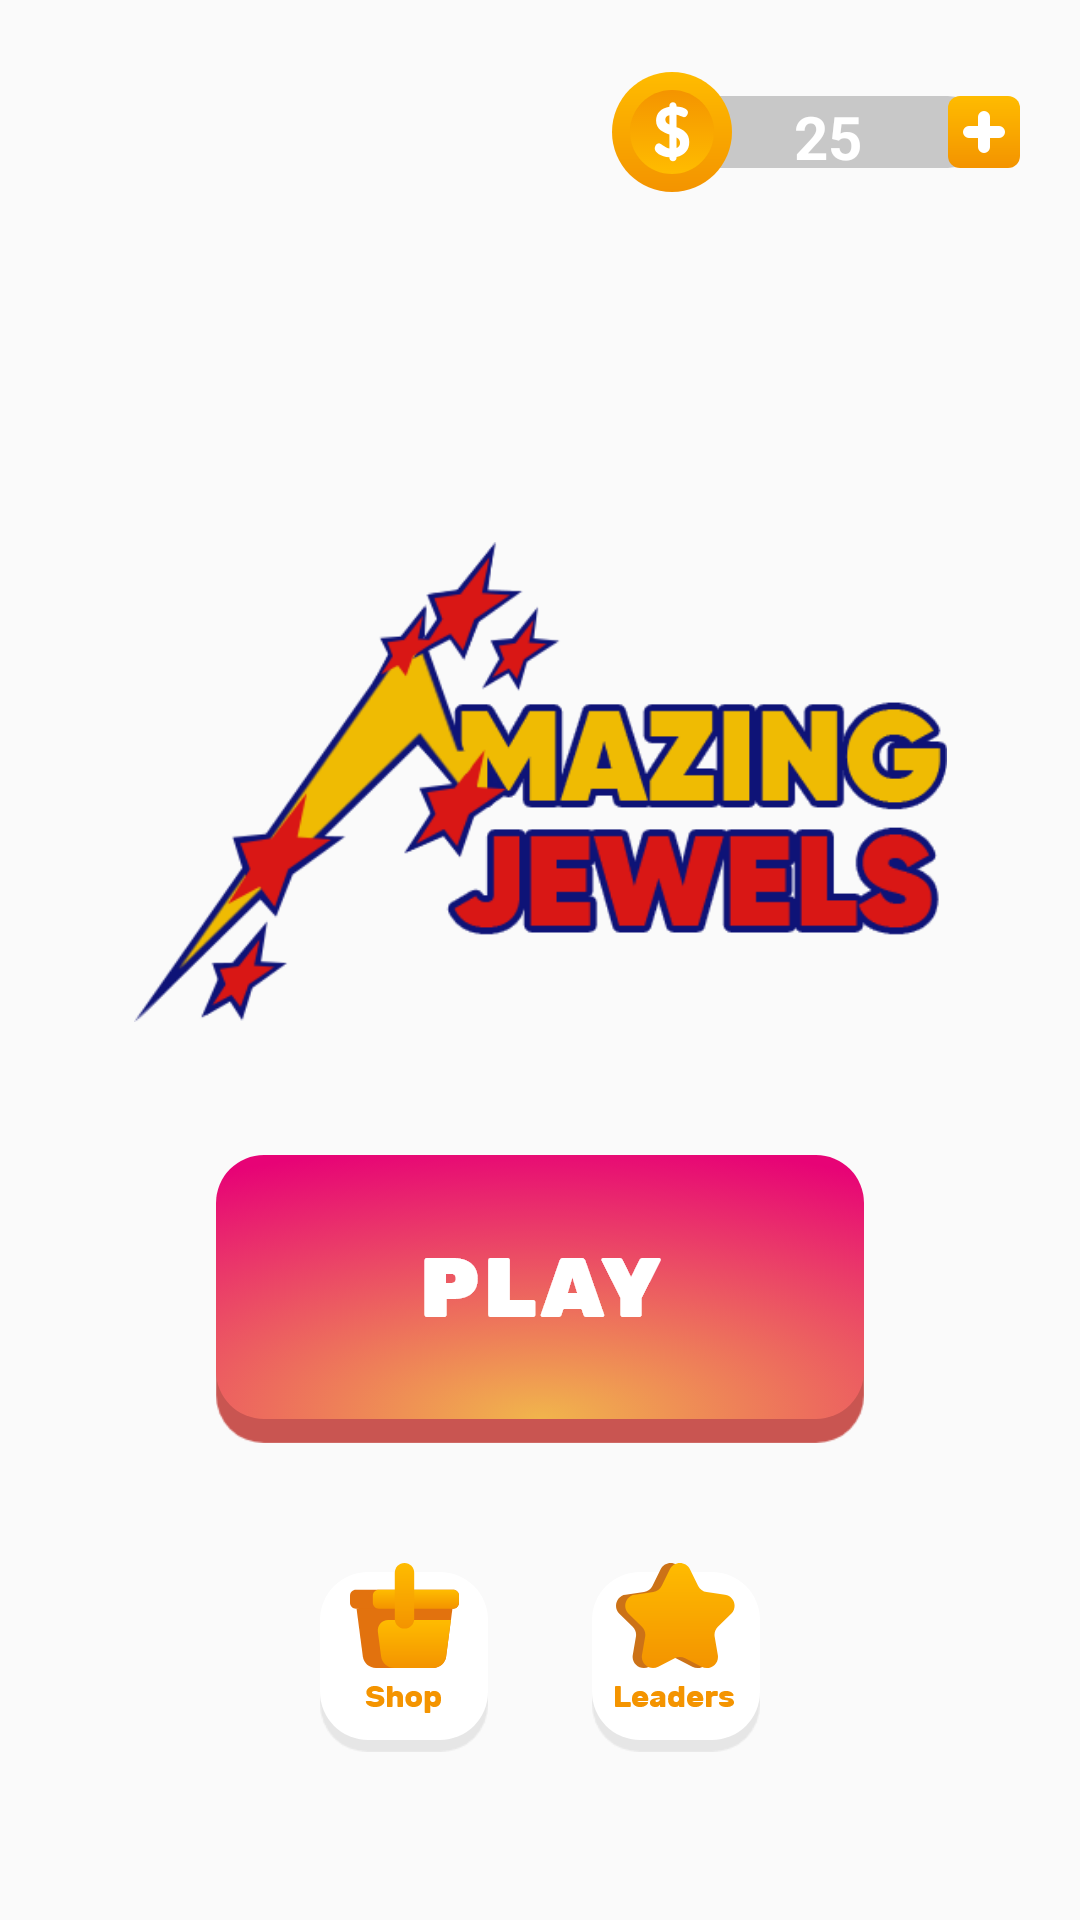

Icon click points for this 1080px×1920px phone screenshot, format [x,y]:
add: [984,132]
